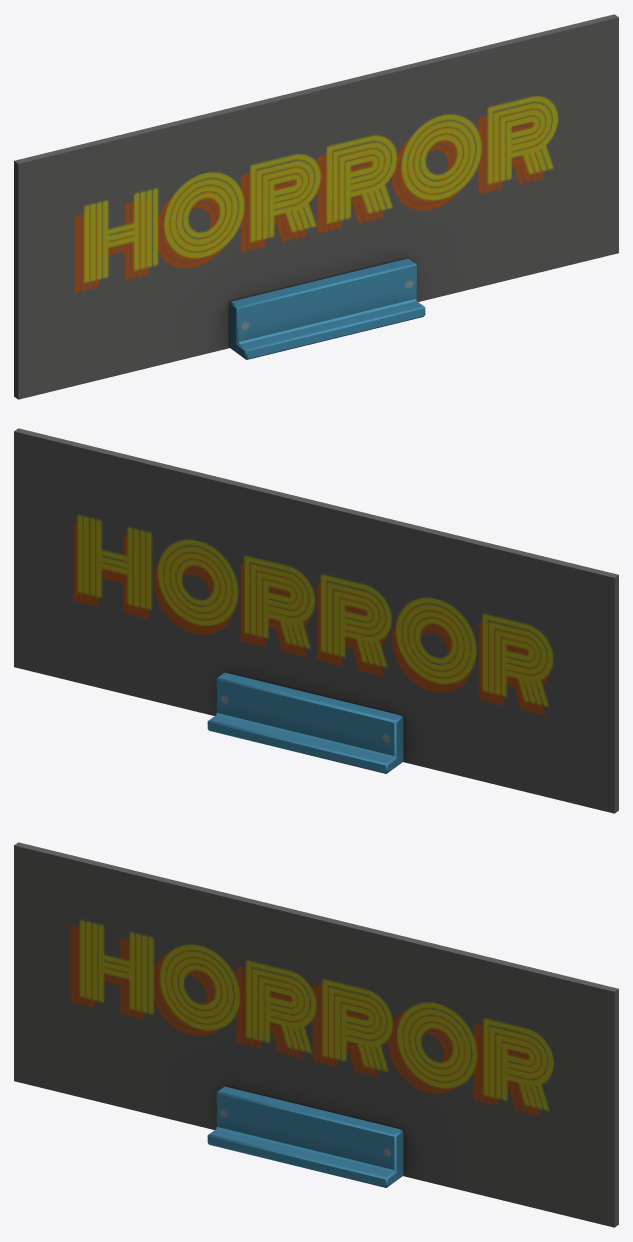
Rendered from video_store_labels_horror.obj.
3 views of the same model, one above another, from view 1: azimuth 30°, elevation 25°; view 2: azimuth 150°, elevation 25°; view 3: azimuth 330°, elevation 25° (orthographic).
Parts seen in each view (by area): view 1: Mesh1_Group3_Group2_Group1_Model; view 2: Mesh1_Group3_Group2_Group1_Model; view 3: Mesh1_Group3_Group2_Group1_Model.
Boxes of the visible parts, bbox=[...] form: Mesh1_Group3_Group2_Group1_Model: bbox=[14, 14, 618, 399]; Mesh1_Group3_Group2_Group1_Model: bbox=[14, 428, 618, 813]; Mesh1_Group3_Group2_Group1_Model: bbox=[14, 842, 618, 1227].
Bounding box in the file's own units: 0.4 × 0.15 × 0.045.
Materials: 1 (1 with a texture image).
